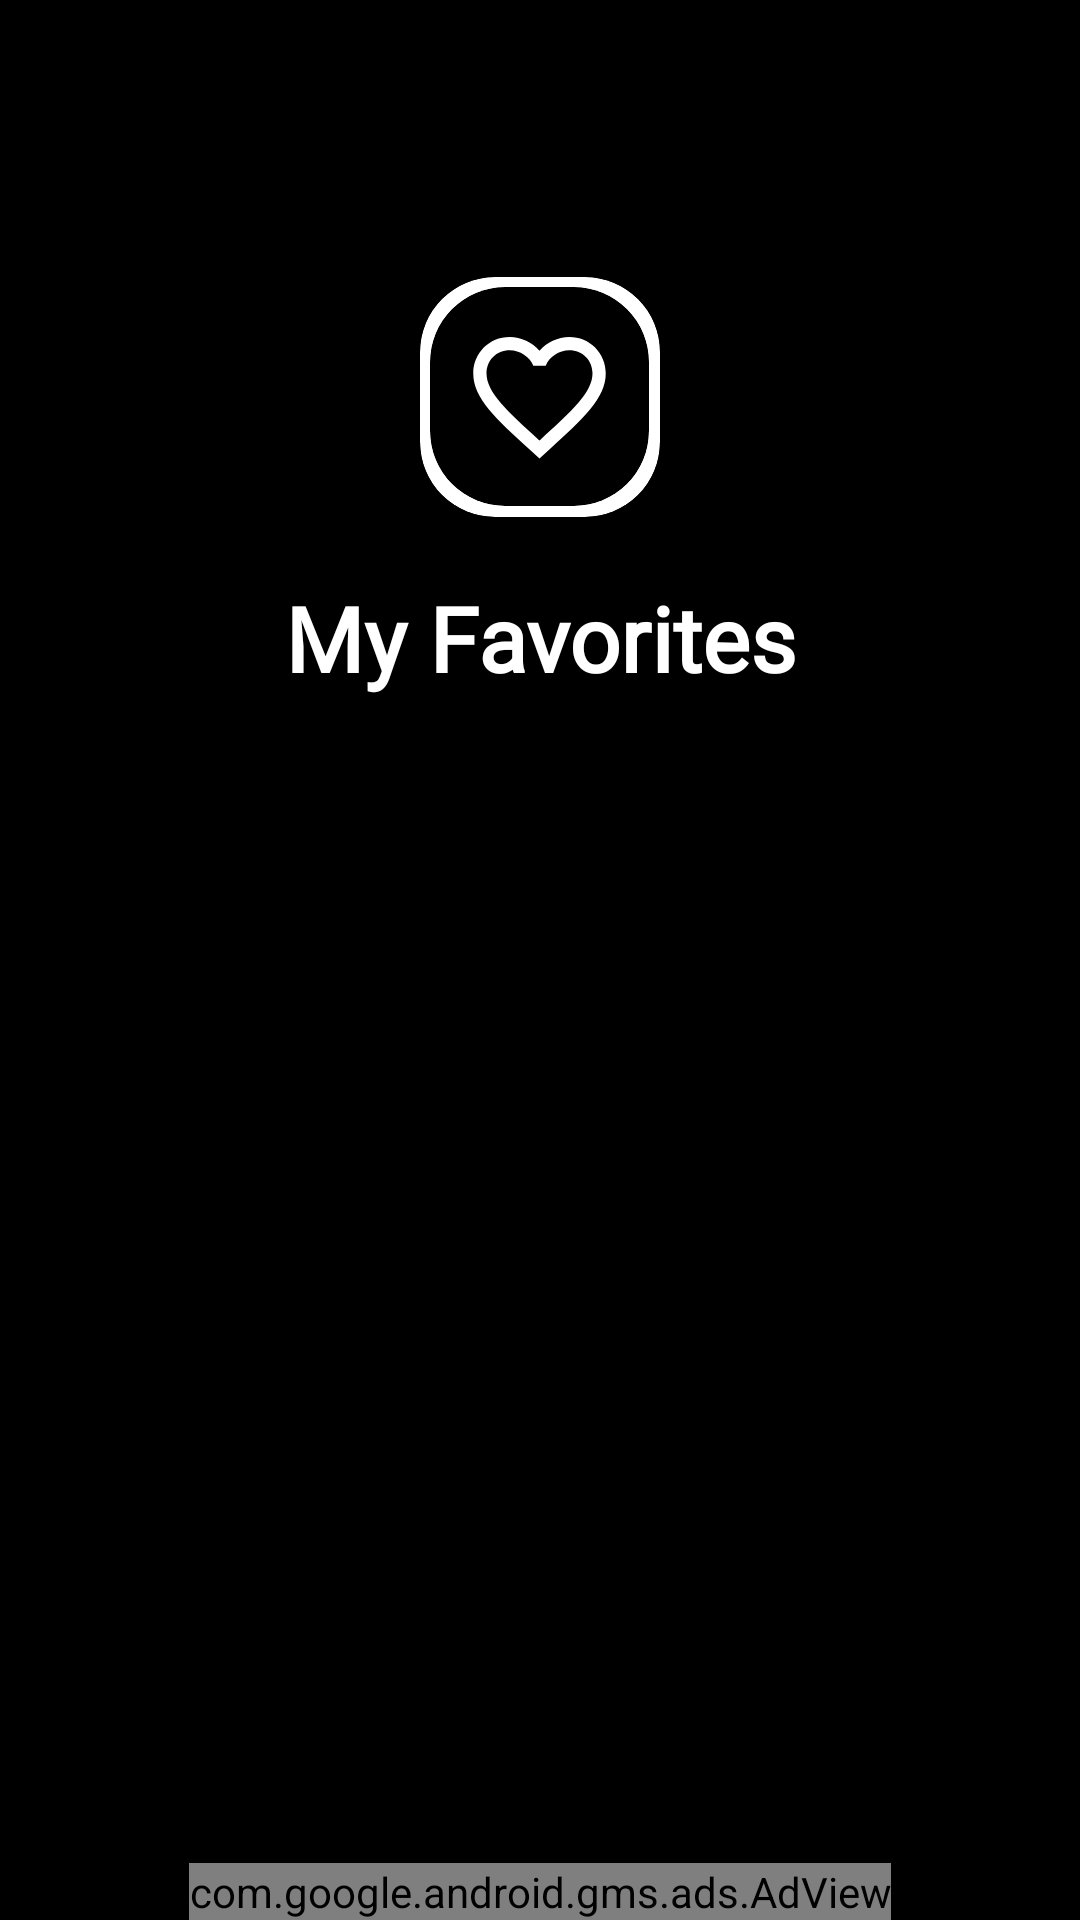

Icons on this 1080w x 1920h Android screen, each with the point to tap as [x,y]:
favorite border: [539,398]
